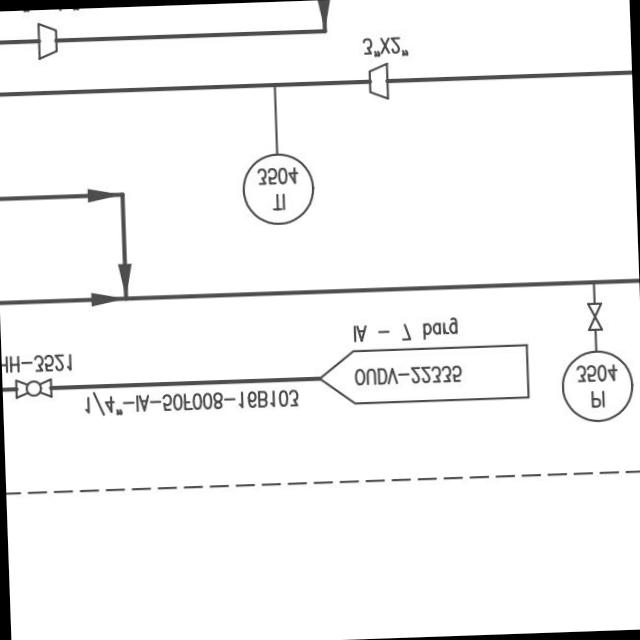BV2: (8, 376, 58, 403)
GV: (584, 297, 606, 334)
SP: (29, 19, 61, 64), (366, 61, 392, 102)
